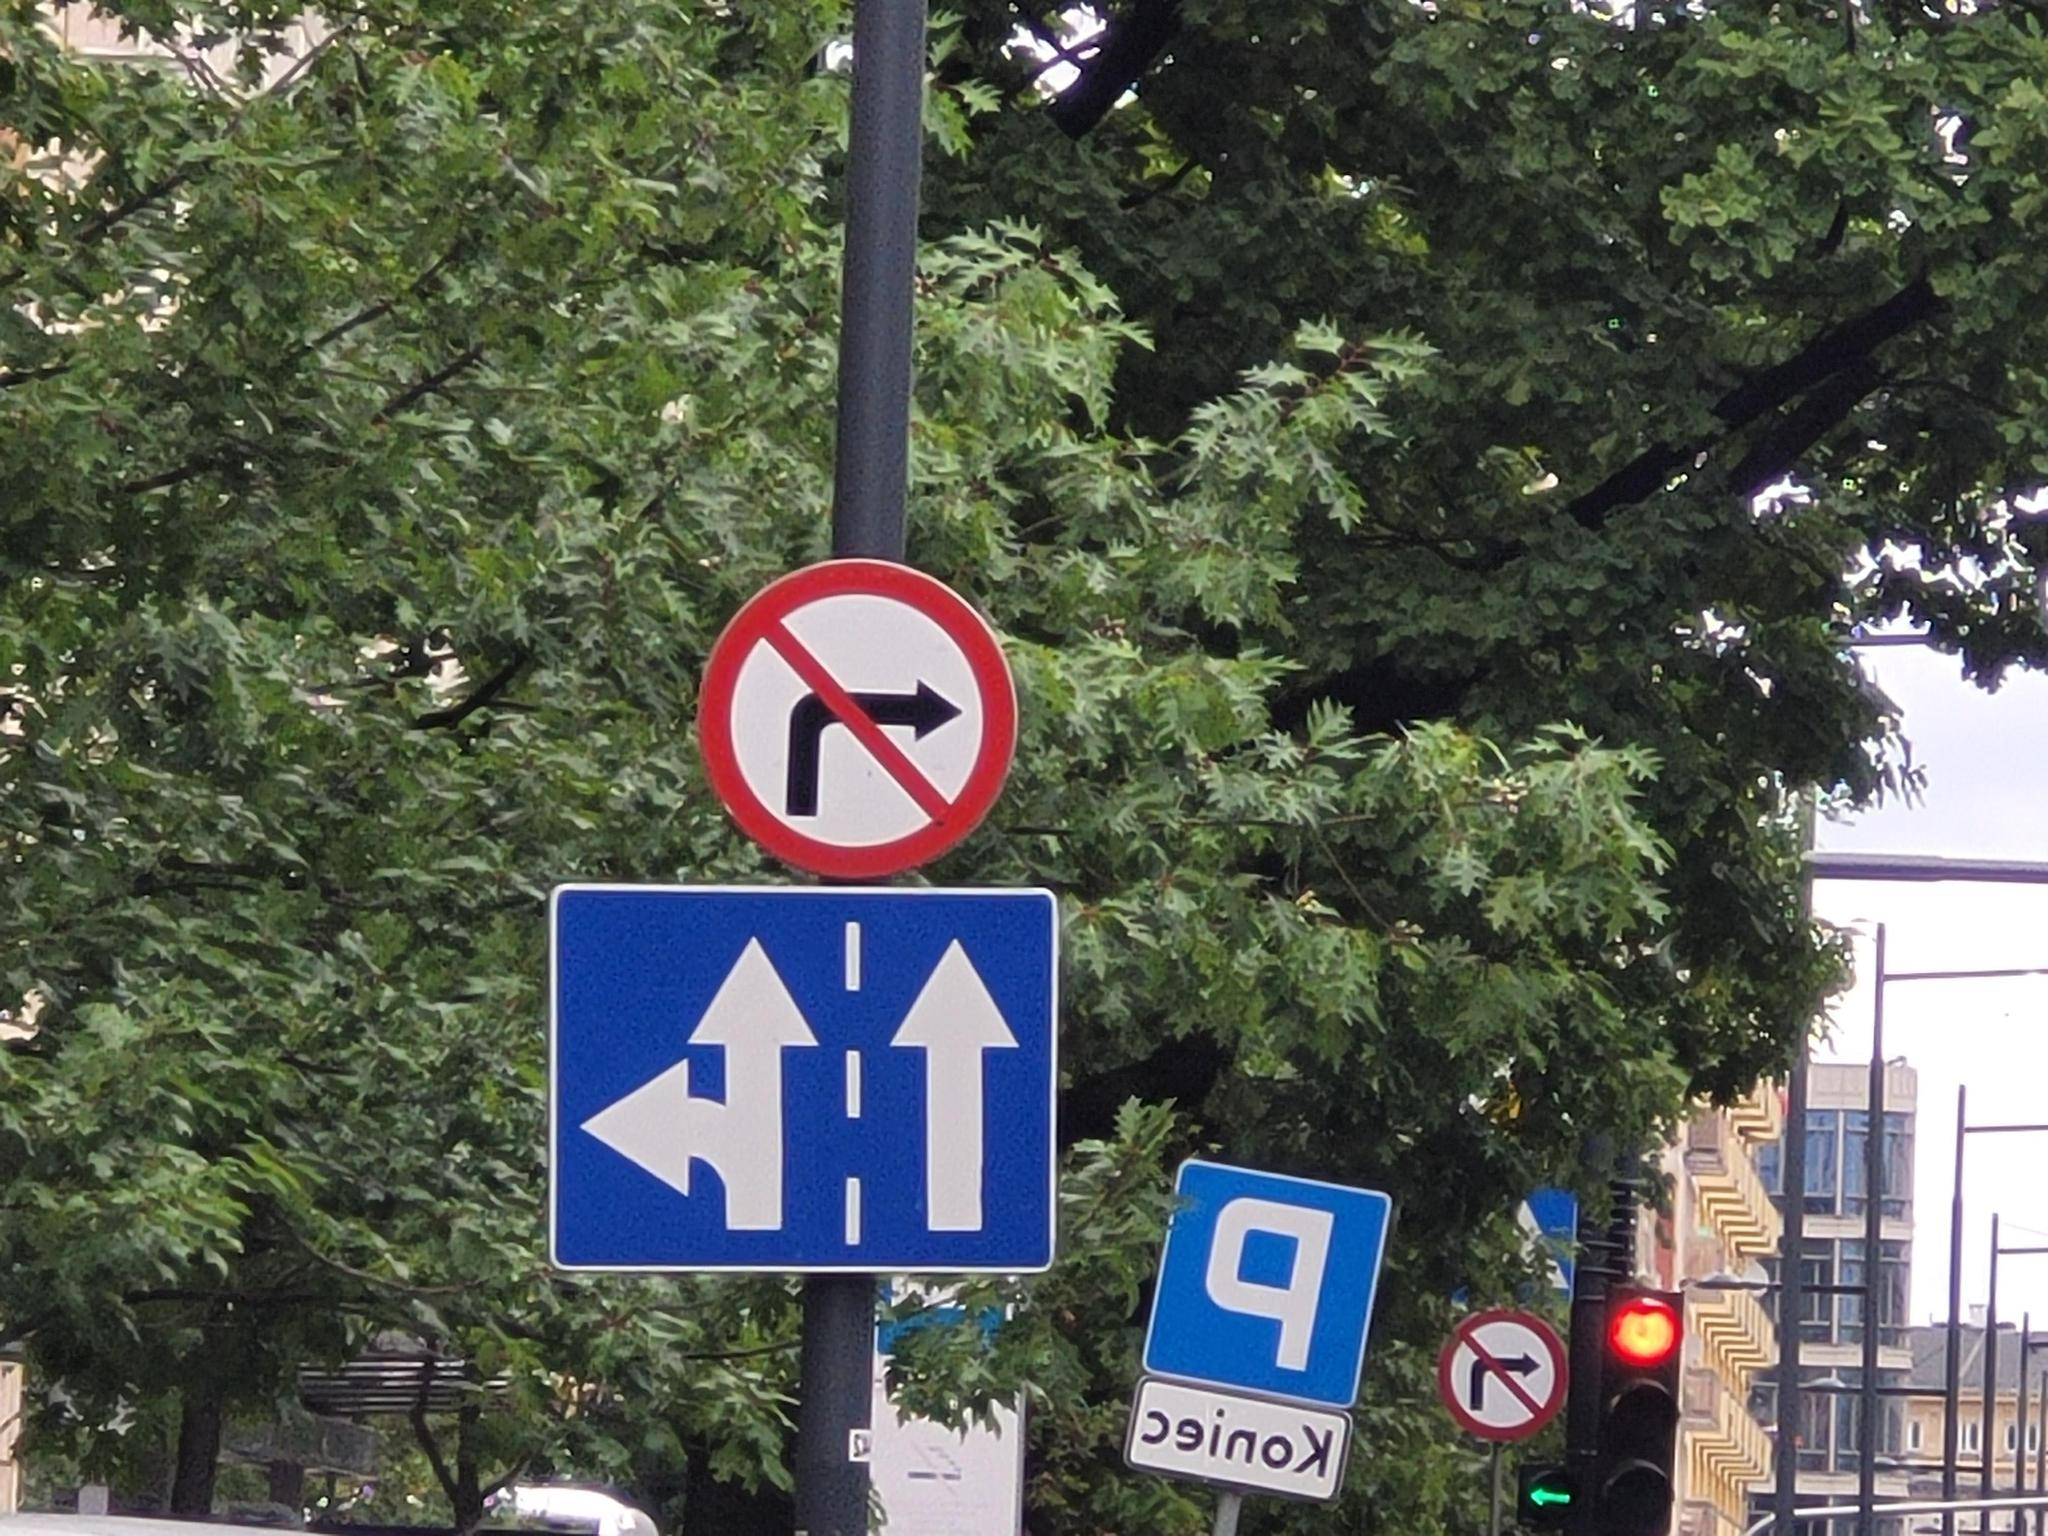information: (1137, 1158, 1388, 1410), (1501, 1192, 1579, 1299)
other: (552, 886, 1055, 1268), (1122, 1378, 1351, 1505)
prohibitory: (695, 558, 1019, 879), (1437, 1305, 1569, 1441)
